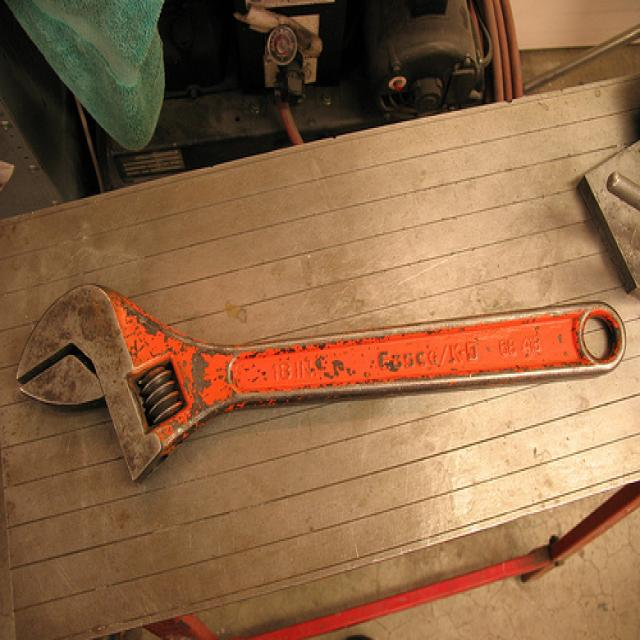wrench: (0, 261, 640, 478)
